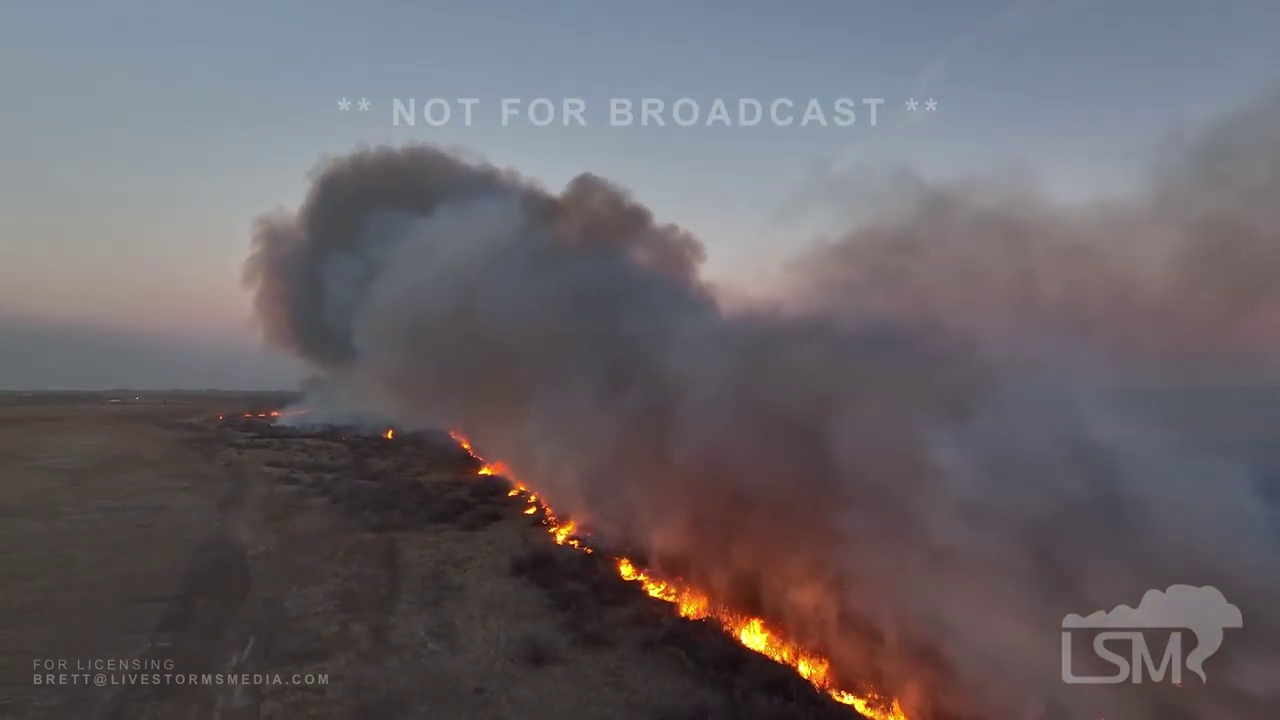forest_fire: (615, 556, 906, 718), (449, 432, 592, 552)
